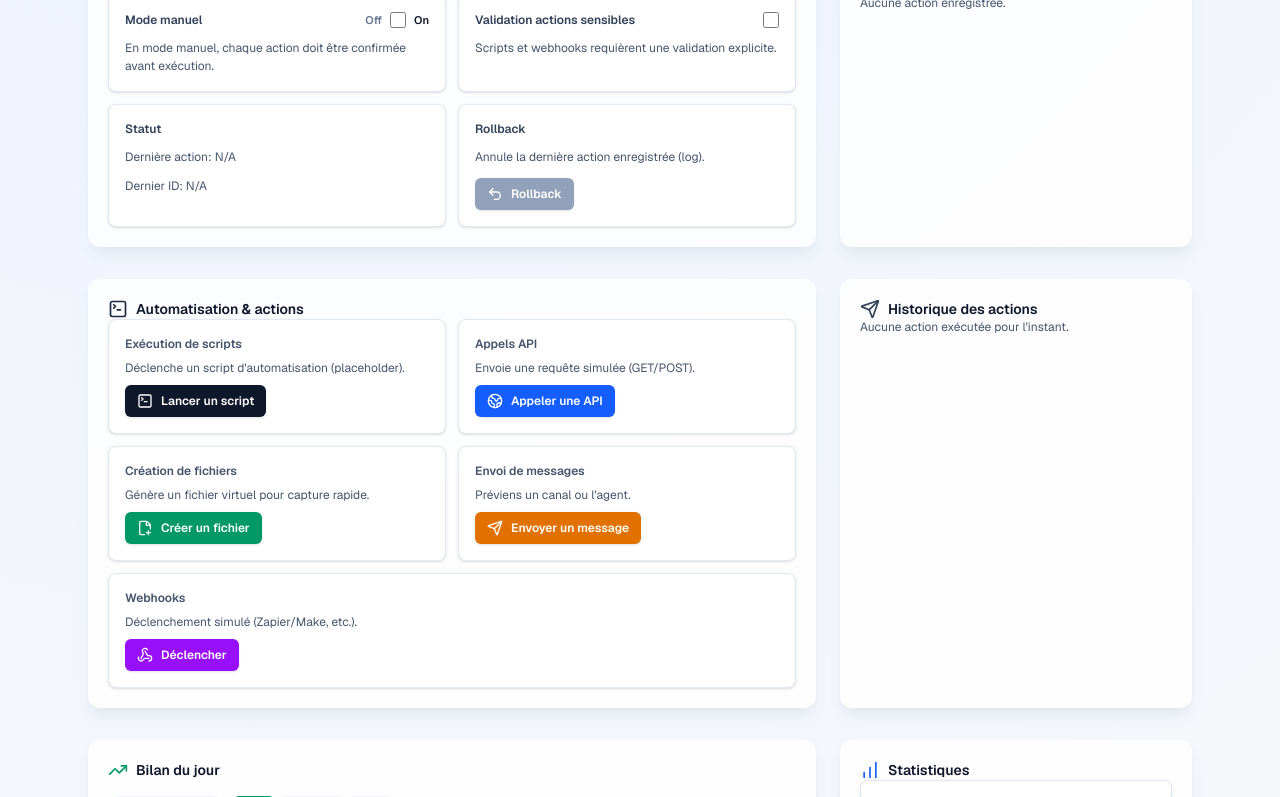
Dashboard études - interactions › met à jour l'historique d'automatisation après une action
This screenshot has width=1280, height=797.
(page scrolled)
Click the button "Lancer un script" at (196, 401), box [125,385,266,417]
(page scrolled)
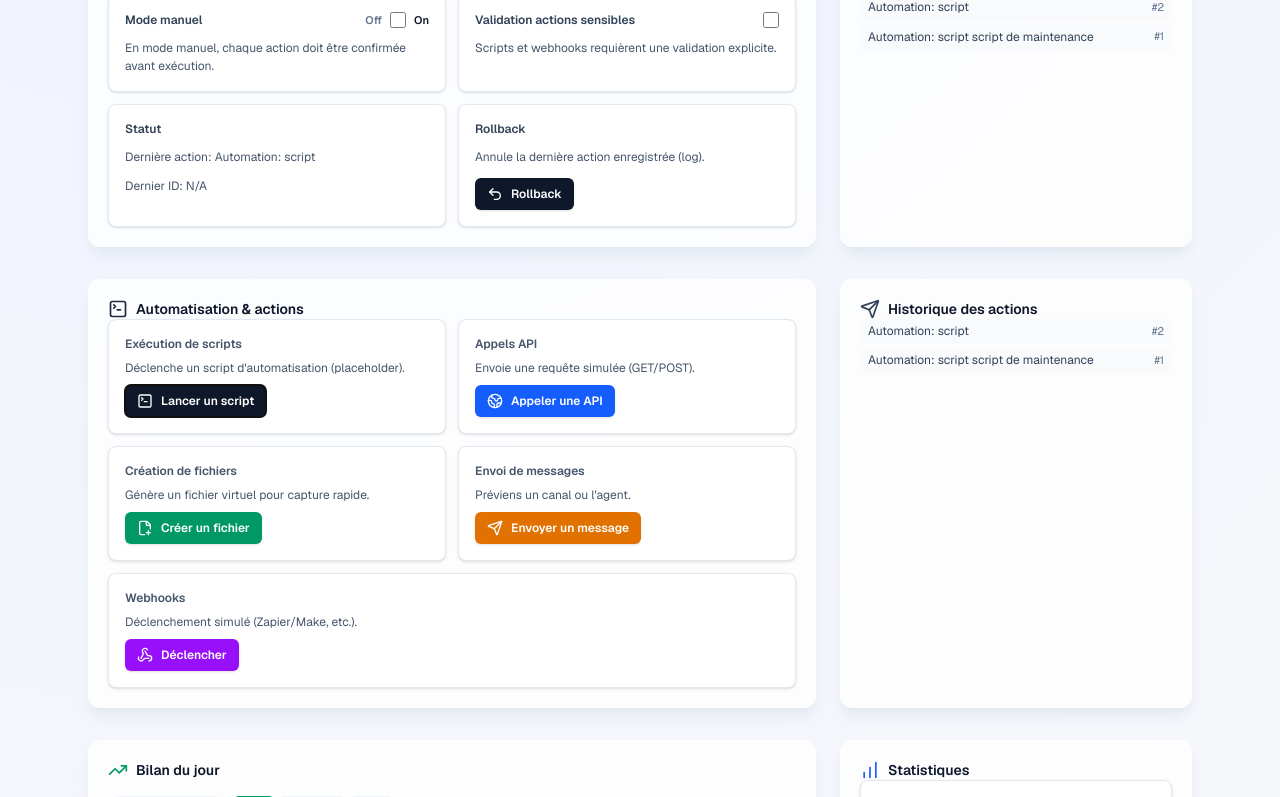
Check: the text "Automation: script script de maintenance" below "Journal d'actions" is shown, box [868,28,1094,44]
